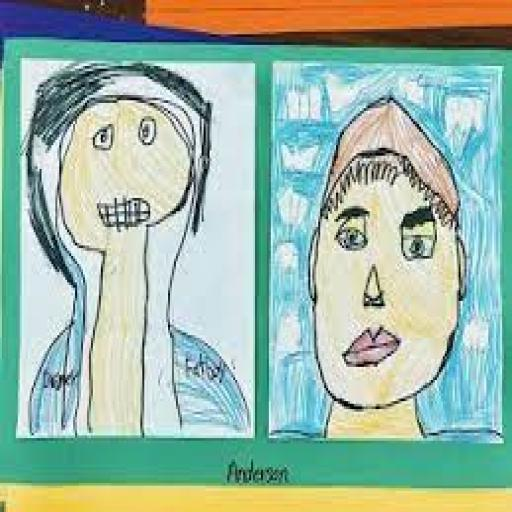person: (24, 60, 249, 437), (284, 84, 493, 438)
